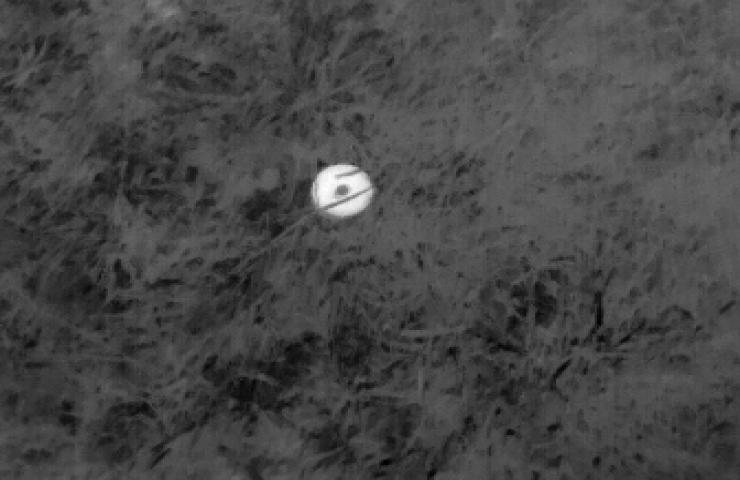landmines: (307, 158, 380, 222)
